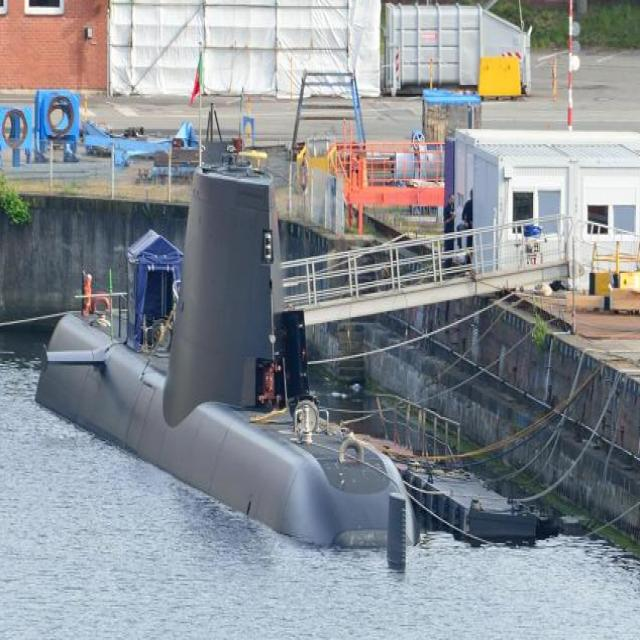submarine: (26, 168, 434, 547)
